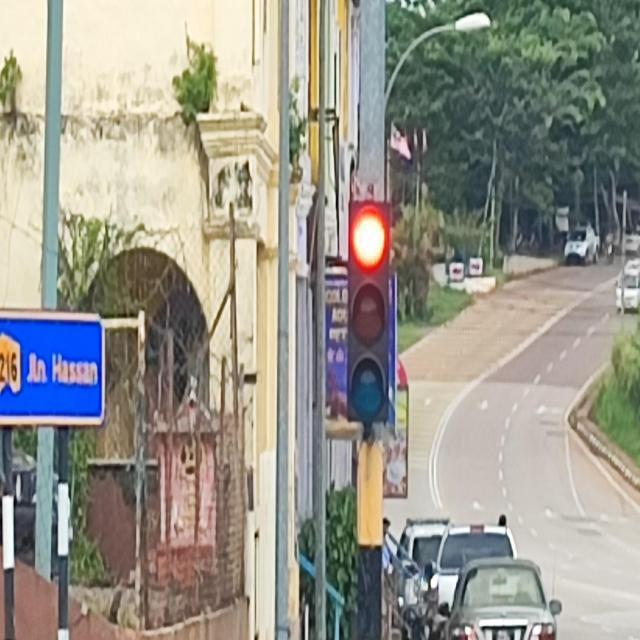red_light: (348, 200, 388, 420)
